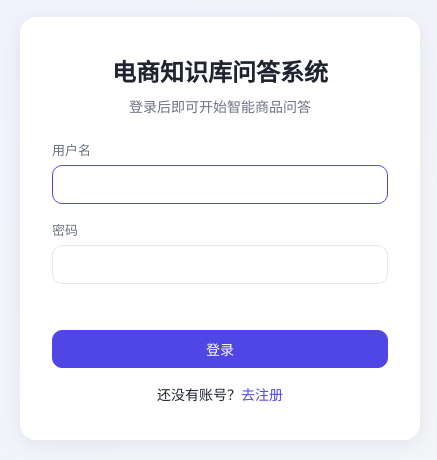
LoginPage › 登录失败时展示后端返回的错误信息
The image size is (437, 460).
Type "alice" into the field at (220, 184), box [52, 164, 388, 204]
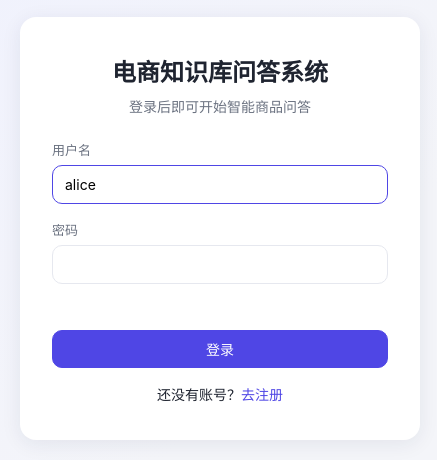
Type "wrong" into the password field labelled "密码" at (220, 264), box [52, 244, 388, 284]
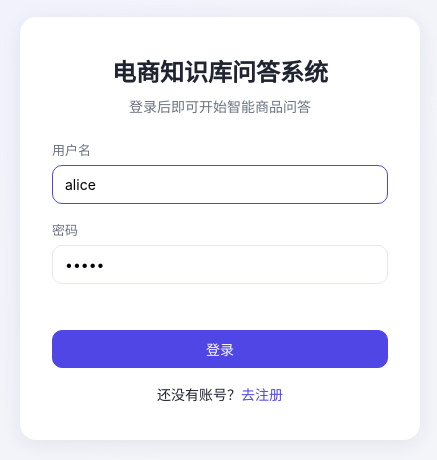
Submit the form
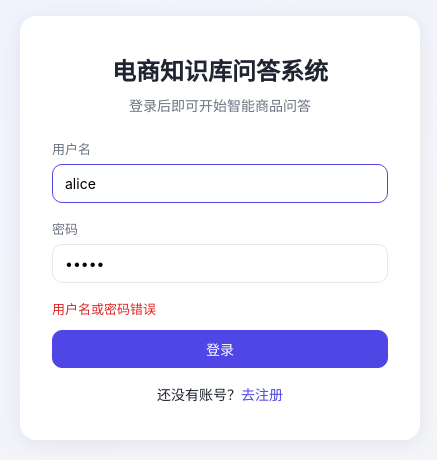
Expected: the text "用户名或密码错误" is shown, [52, 301, 156, 317]
